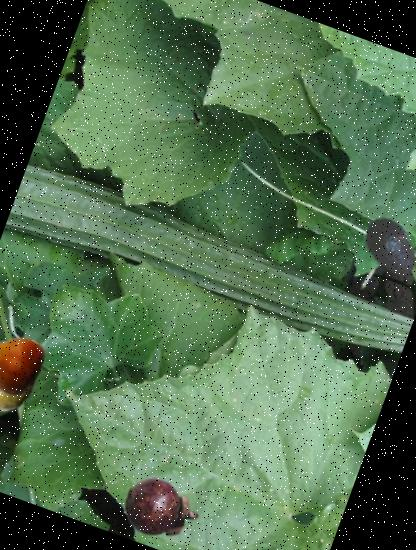Avocado: (349, 206, 416, 288)
Guava: (0, 328, 49, 423)
Mangostan: (113, 461, 209, 550)
Nut: (0, 326, 53, 403)
